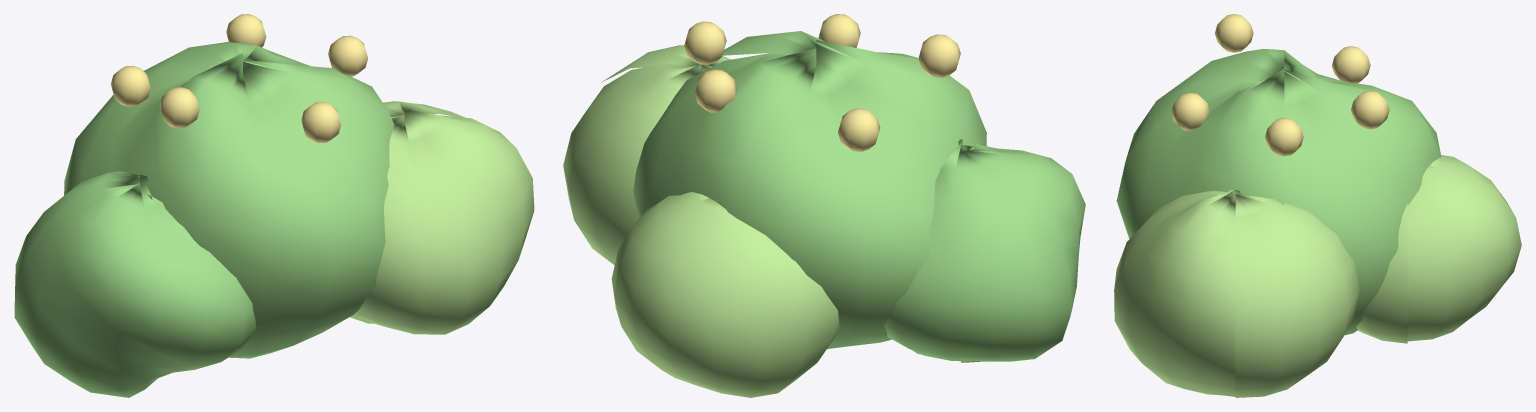
The model's file is bush.glb.
3 renders of one model, left to right at view 1: azimuth 30°, elevation 25°; view 2: azimuth 150°, elevation 25°; view 3: azimuth 270°, elevation 25°, orthographic. The views are drawn at different scales.
Parts seen in each view (by area): view 1: Skin; view 2: Skin; view 3: Skin.
Boxes of the visible parts, x1,y1,x2,y2 form: Skin: (14,14,534,397); Skin: (563,14,1085,397); Skin: (1114,14,1521,397).
Bounding box in the file's own units: 1.59 × 0.9431 × 1.26.
